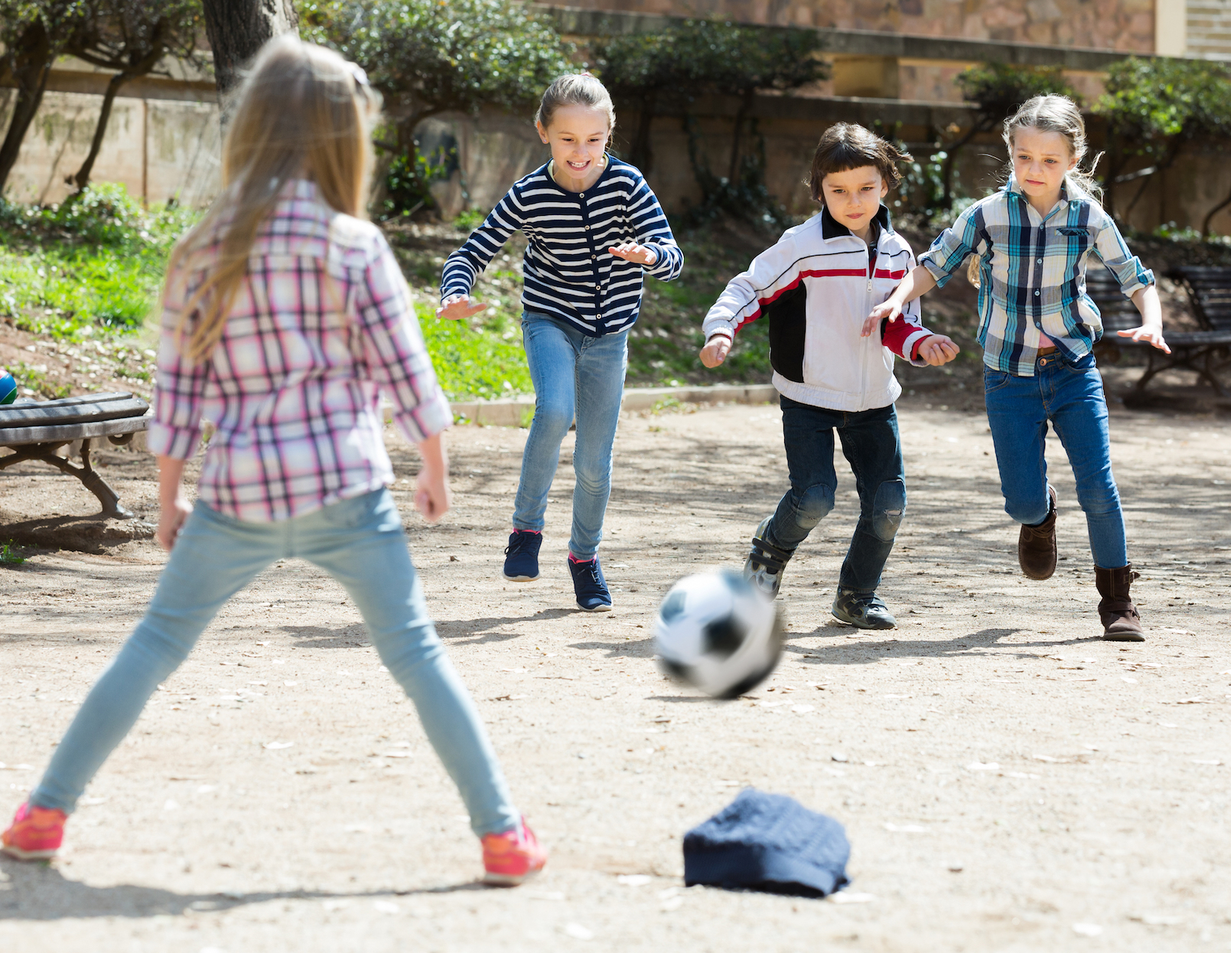Person: (24, 28, 546, 889), (921, 85, 1187, 671), (686, 112, 957, 639), (442, 62, 651, 625)
